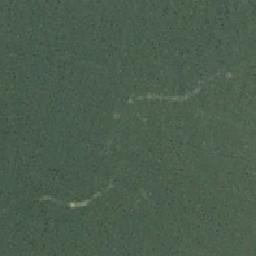debris: (66, 198, 97, 208)
